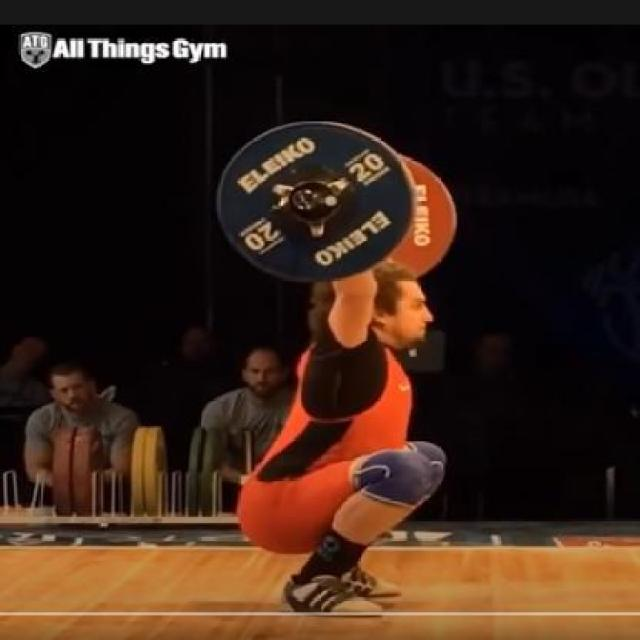barbell: (213, 116, 417, 283)
